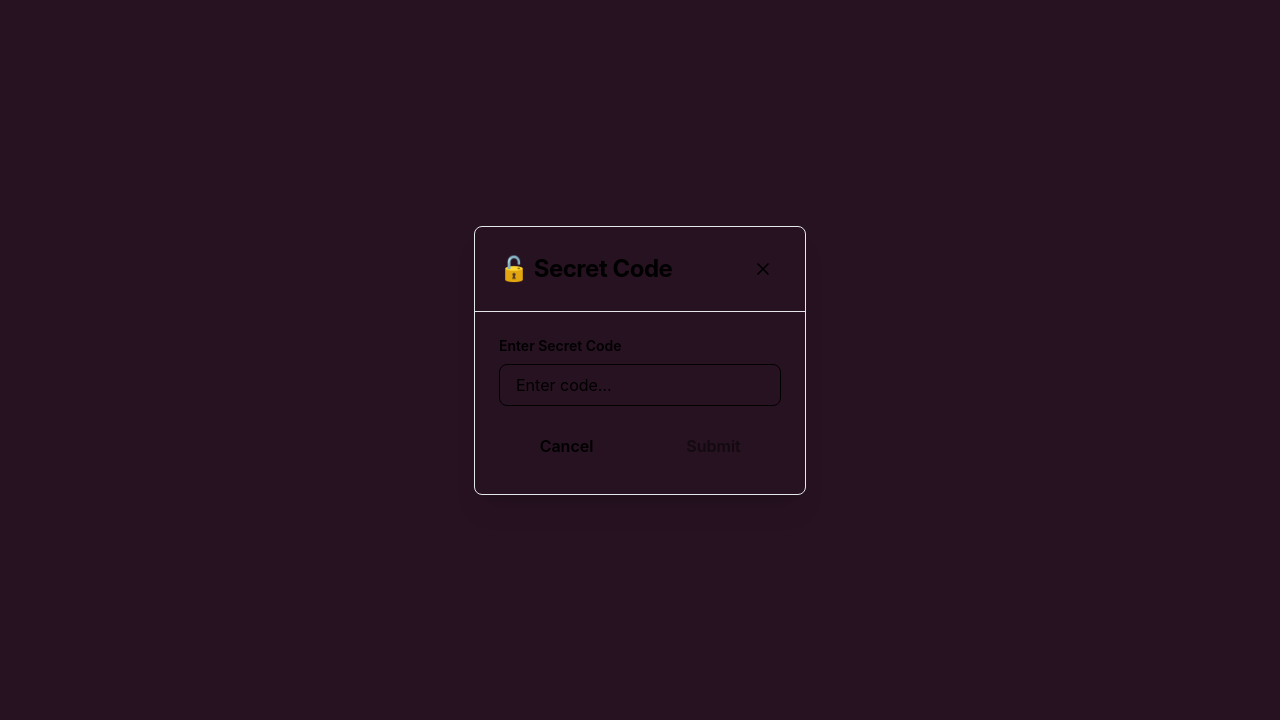
Test: SecretCodeModal › shows error for invalid code
Type "WrongCode" into the field with placeholder "Enter code..." at (640, 384), box [499,364,781,406]
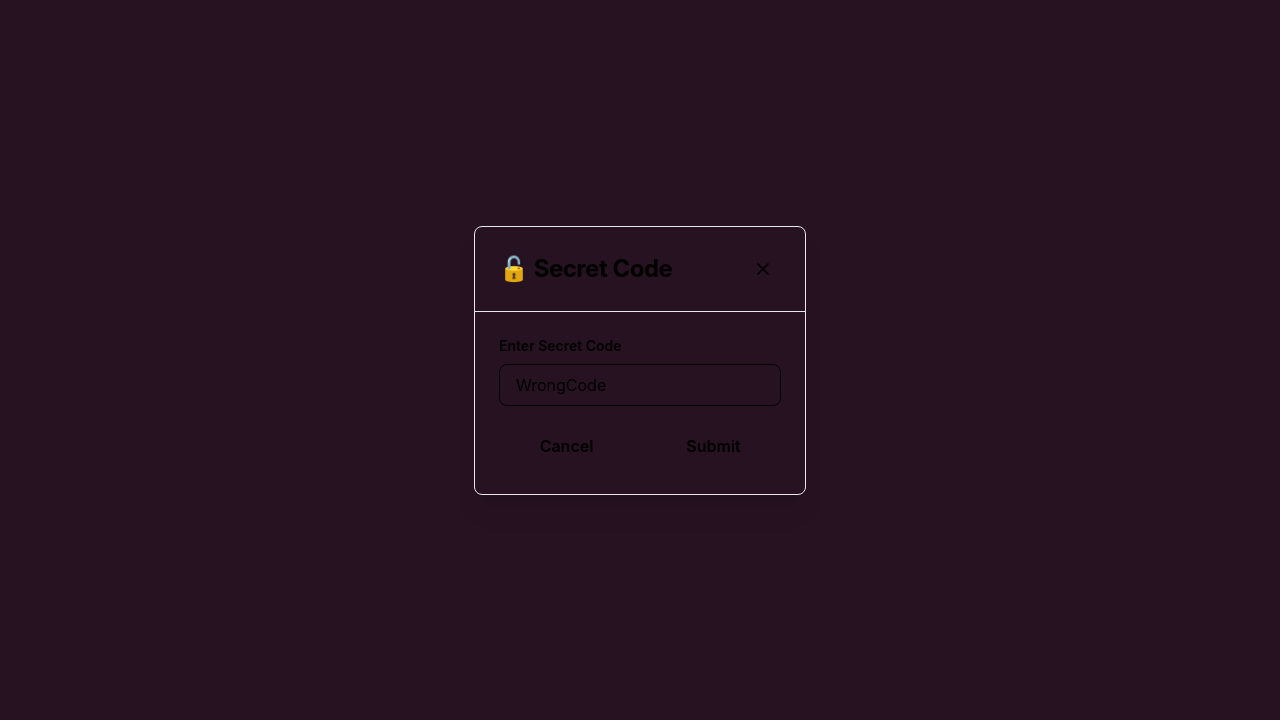
Click the button "Submit" at (714, 446), box [646,422,781,470]
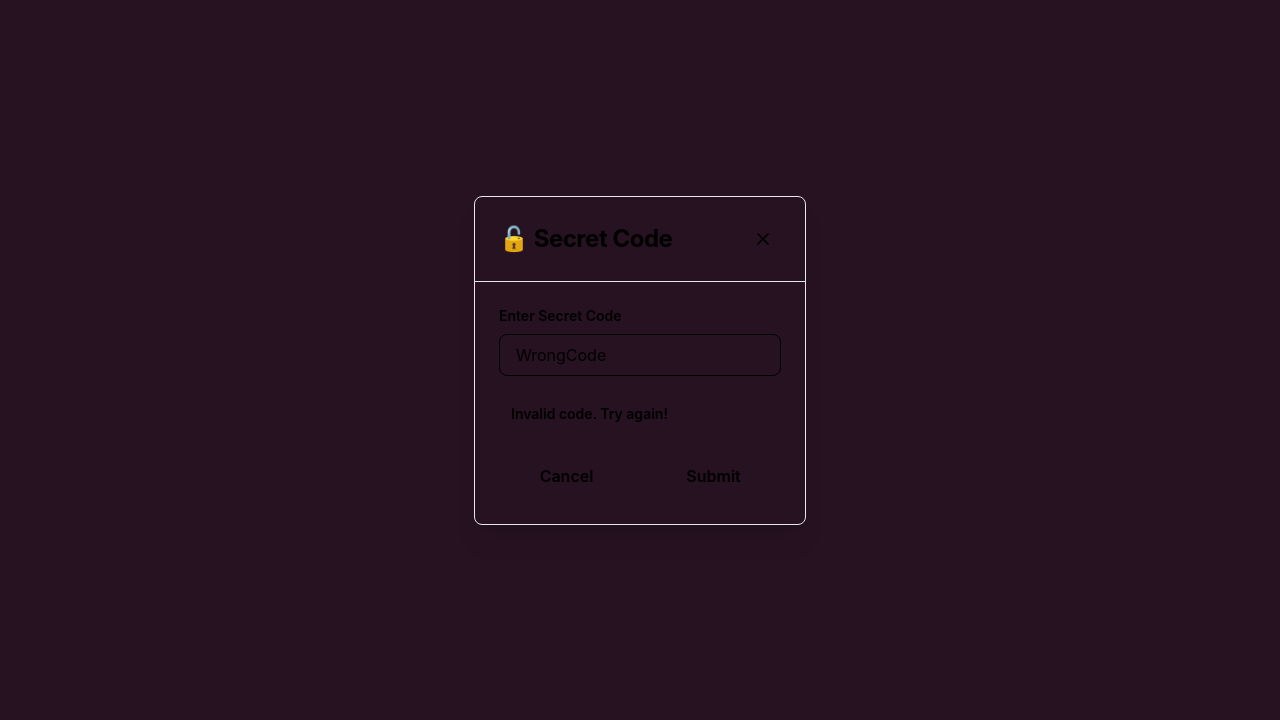
Result: the text "Invalid code. Try again!" is shown at [511,404,668,422]
